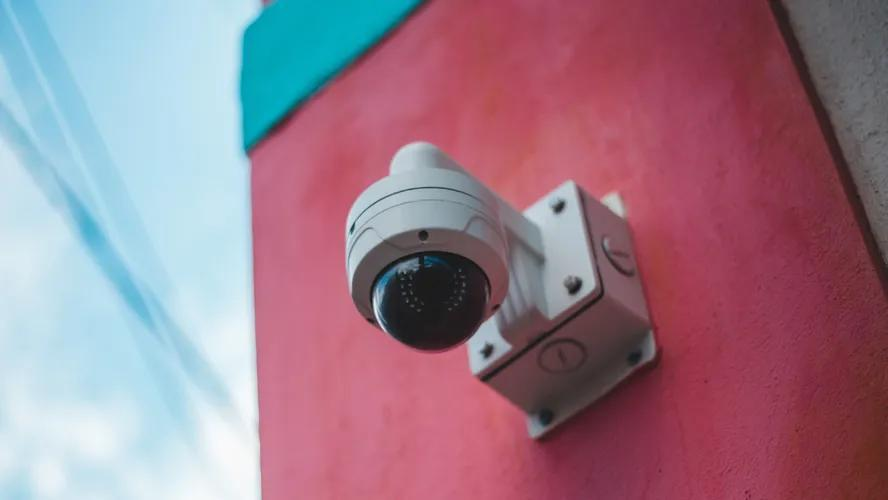camera: (313, 139, 575, 368)
